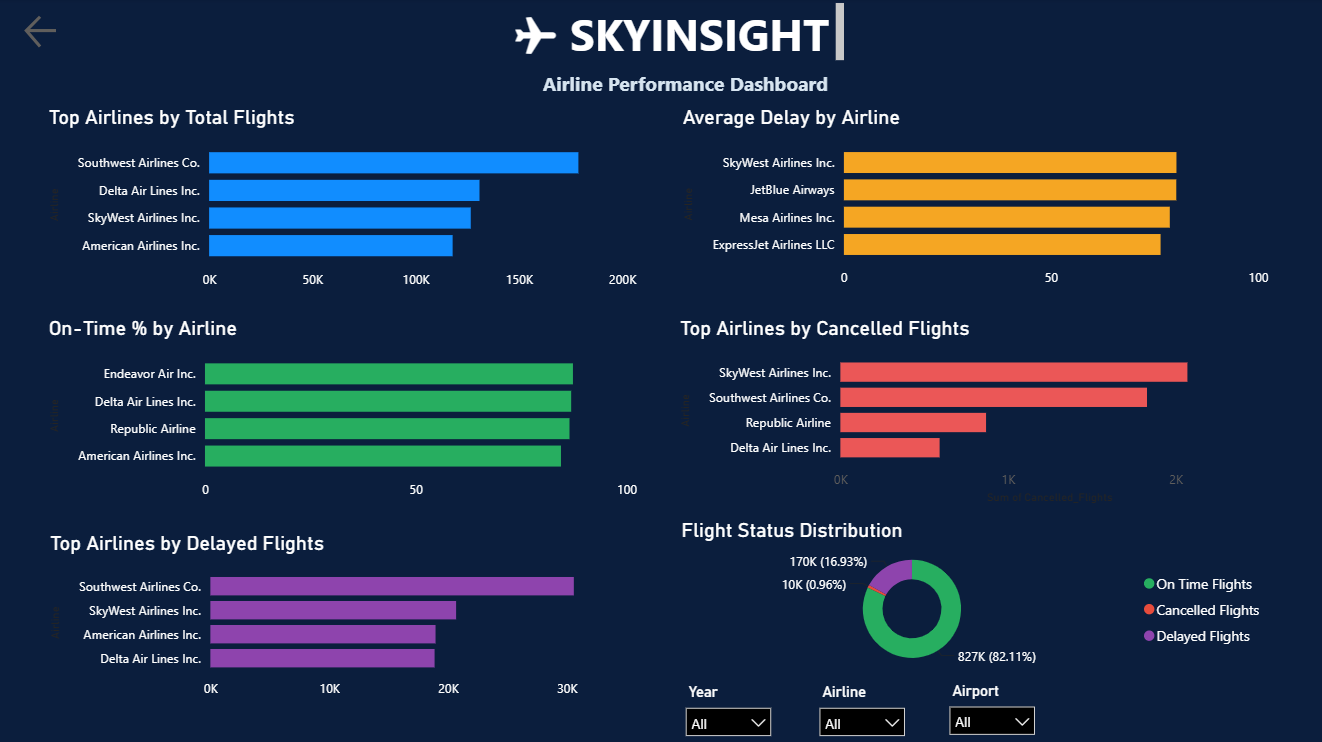

This screenshot's page, from the dashboard's own definition file:
{"tool":"powerbi","page":{"name":"Airline Performance ","canvas":[1280,720],"ordinal":2},"visuals":[{"type":"textbox","box":[484.4,0,334.8,65.9],"z":0},{"type":"textbox","box":[519,65.4,365.9,39],"z":1000},{"type":"slicer","fields":{"Values":["airline_operations_cleaned.Year"]},"box":[651.8,655.9,102.9,64.5],"z":2000},{"type":"slicer","fields":{"Values":["airline_operations_cleaned.Airline"]},"box":[780.8,655.9,102.9,64.5],"z":3000},{"type":"slicer","fields":{"Values":["airline_operations_cleaned.Airport"]},"box":[905.7,654.5,102.9,65.9],"z":4000},{"type":"clusteredBarChart","title":"Top Airlines by Total Flights","fields":{"Category":["airline_operations_cleaned.Airline"],"Y":["Sum(airline_operations_cleaned.Total_Flights)"]},"box":[42.5,103.8,577.5,186.2],"z":5000},{"type":"barChart","title":"Average Delay by Airline","fields":{"Category":["airline_operations_cleaned.Airline"],"Y":["Avg(airline_operations_cleaned.Average_Delay_Per_Flight)"]},"box":[653.3,104.3,575.5,184.9],"z":6000},{"type":"clusteredBarChart","title":"On-Time % by Airline  ","fields":{"Category":["airline_operations_cleaned.Airline"],"Y":["Avg(airline_operations_cleaned.On_Time_Percentage)"]},"box":[42.5,307.4,577.7,185.2],"z":7000},{"type":"clusteredBarChart","title":"Top Airlines by Cancelled Flights","fields":{"Y":["Sum(airline_operations_cleaned.Cancelled_Flights)"],"Category":["airline_operations_cleaned.Airline"]},"box":[651.8,307.4,576.3,185.2],"z":8000},{"type":"clusteredBarChart","title":"Top Airlines by Delayed Flights","fields":{"Category":["airline_operations_cleaned.Airline"],"Y":["Sum(airline_operations_cleaned.Delayed_Flights)"]},"box":[43.9,514.6,576.3,170.2],"z":9000},{"type":"donutChart","title":"Flight Status Distribution","fields":{"Y":["Sum(airline_operations_cleaned.On_Time_Flights)","Sum(airline_operations_cleaned.Cancelled_Flights)","Sum(airline_operations_cleaned.Delayed_Flights)"]},"box":[652.5,503.7,577.4,151.7],"z":10000},{"type":"actionButton","box":[18.7,11.9,100.3,40.8],"z":12000}]}

Visuals, with their boxes in screenshot pixels (x1, y1, x2, y2), scaled from the page's 1280x720 canvas onto the 1322x742 screenshot:
textbox: <region>500, 0, 846, 68</region>
textbox: <region>536, 67, 914, 108</region>
slicer - airline_operations_cleaned.Year: <region>673, 676, 779, 741</region>
slicer - airline_operations_cleaned.Airline: <region>806, 676, 913, 741</region>
slicer - airline_operations_cleaned.Airport: <region>935, 674, 1042, 741</region>
"Top Airlines by Total Flights" clusteredBarChart: <region>44, 107, 640, 299</region>
"Average Delay by Airline" barChart: <region>675, 107, 1269, 298</region>
"On-Time % by Airline  " clusteredBarChart: <region>44, 317, 641, 508</region>
"Top Airlines by Cancelled Flights" clusteredBarChart: <region>673, 317, 1268, 508</region>
"Top Airlines by Delayed Flights" clusteredBarChart: <region>45, 530, 641, 706</region>
"Flight Status Distribution" donutChart: <region>674, 519, 1270, 675</region>
actionButton: <region>19, 12, 123, 54</region>
